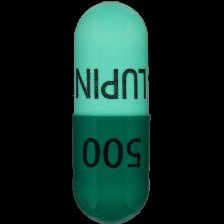51655-125: (0, 0, 224, 224)
